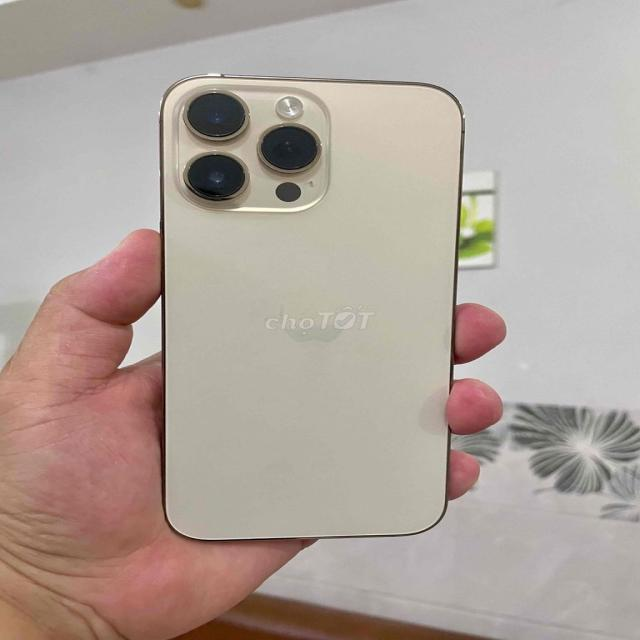gen_14: (143, 67, 470, 544)
